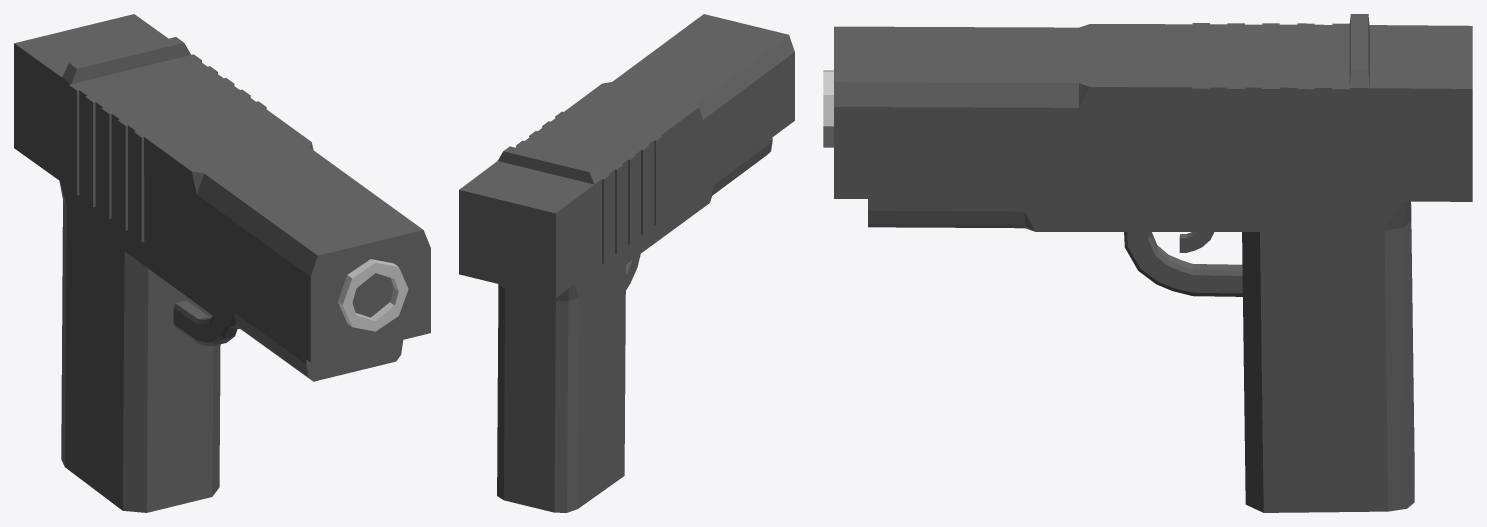
File: pistol.obj
3 renders of one model, left to right at view 1: azimuth 30°, elevation 25°; view 2: azimuth 150°, elevation 25°; view 3: azimuth 270°, elevation 25°, orthographic. The views are drawn at different scales.
Bounding box in the file's own units: 0.7265 × 2.3 × 3.03.
